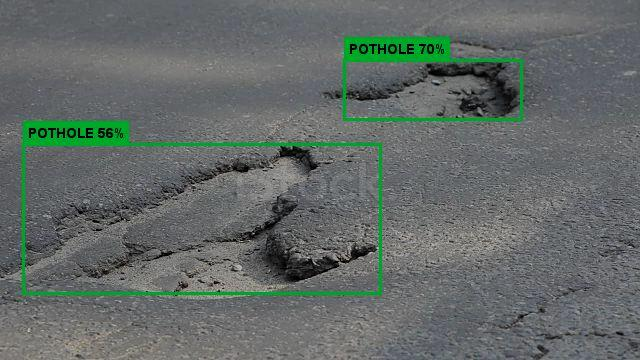POTHOLE: (195, 178, 458, 290)
